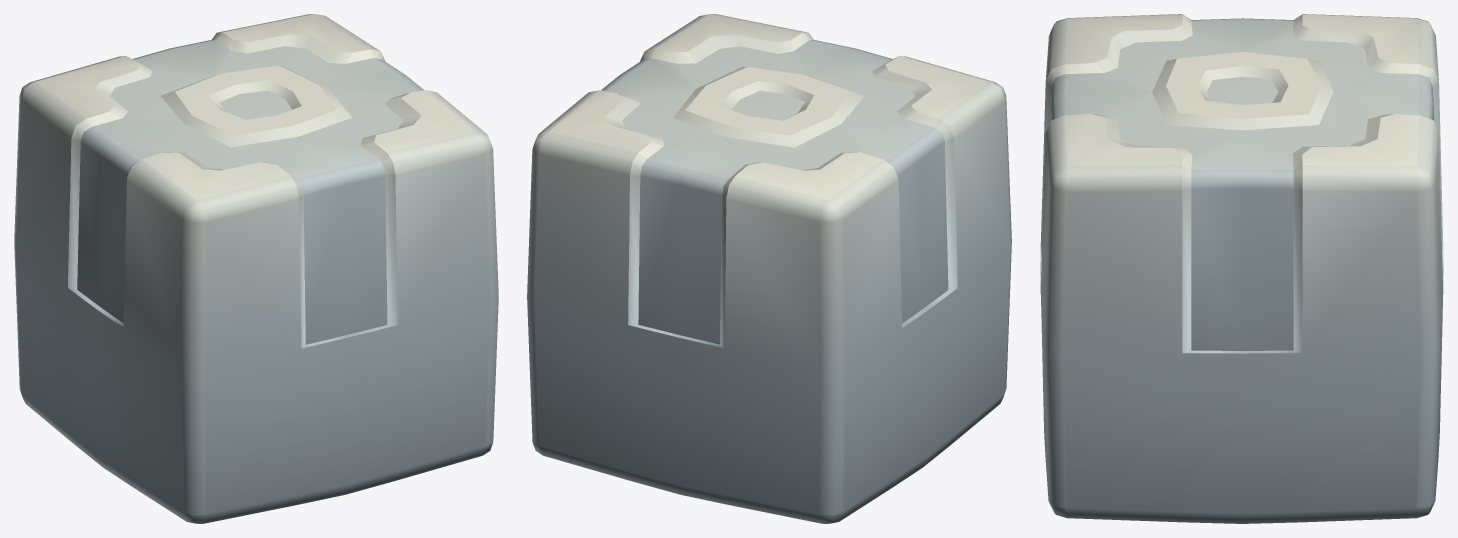
Rendered from Quartz_Free4.fbx.
3 renders of one model, left to right at view 1: azimuth 30°, elevation 25°; view 2: azimuth 150°, elevation 25°; view 3: azimuth 270°, elevation 25°, orthographic. The views are drawn at different scales.
Visible parts, largest first — view 1: Quartz_Free4_LOD0; view 2: Quartz_Free4_LOD0; view 3: Quartz_Free4_LOD0.
Boxes of the visible parts, bbox=[...] form: Quartz_Free4_LOD0: bbox=[14, 14, 498, 523]; Quartz_Free4_LOD0: bbox=[527, 14, 1011, 523]; Quartz_Free4_LOD0: bbox=[1040, 14, 1443, 523].
Size of what is drawn, in the model's own units: 1.09 by 1.09 by 1.09.
